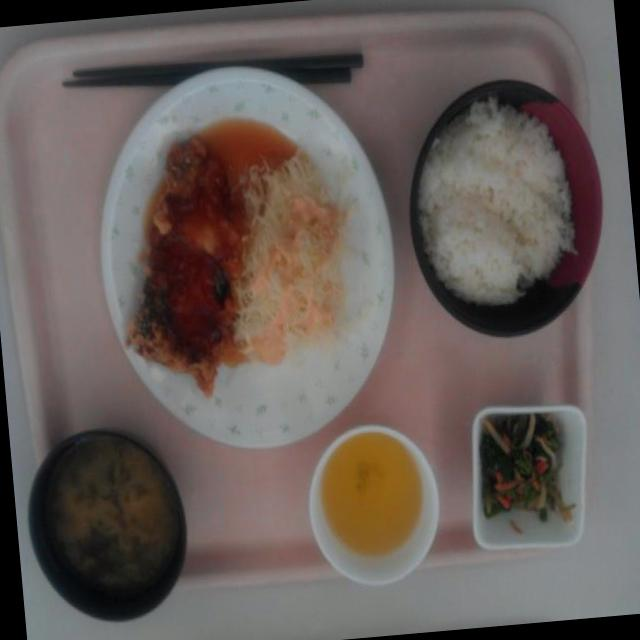Rice: (402, 84, 588, 314)
